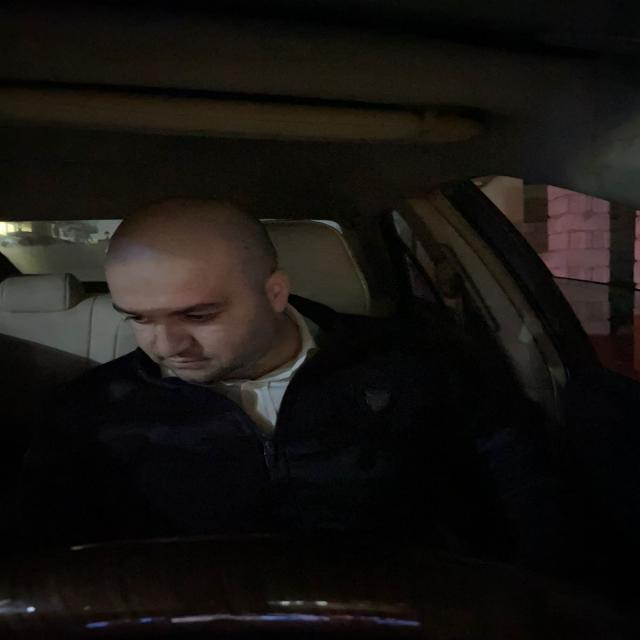person: (92, 185, 306, 392)
